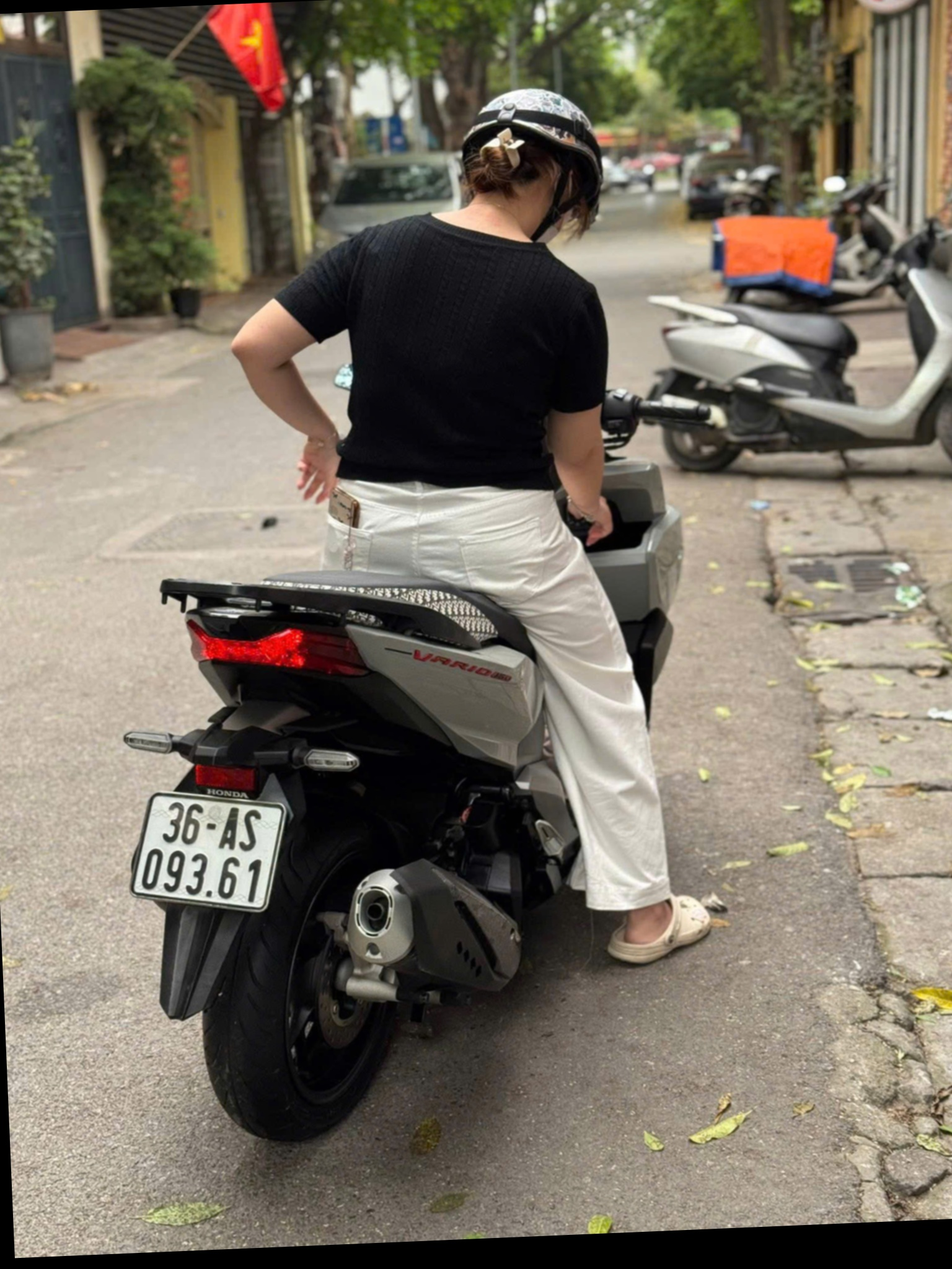Bien-so: (126, 784, 291, 917)
